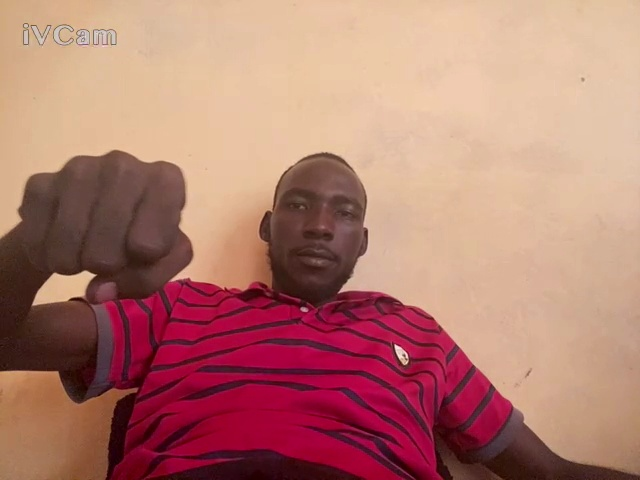oui: (12, 132, 204, 307)
